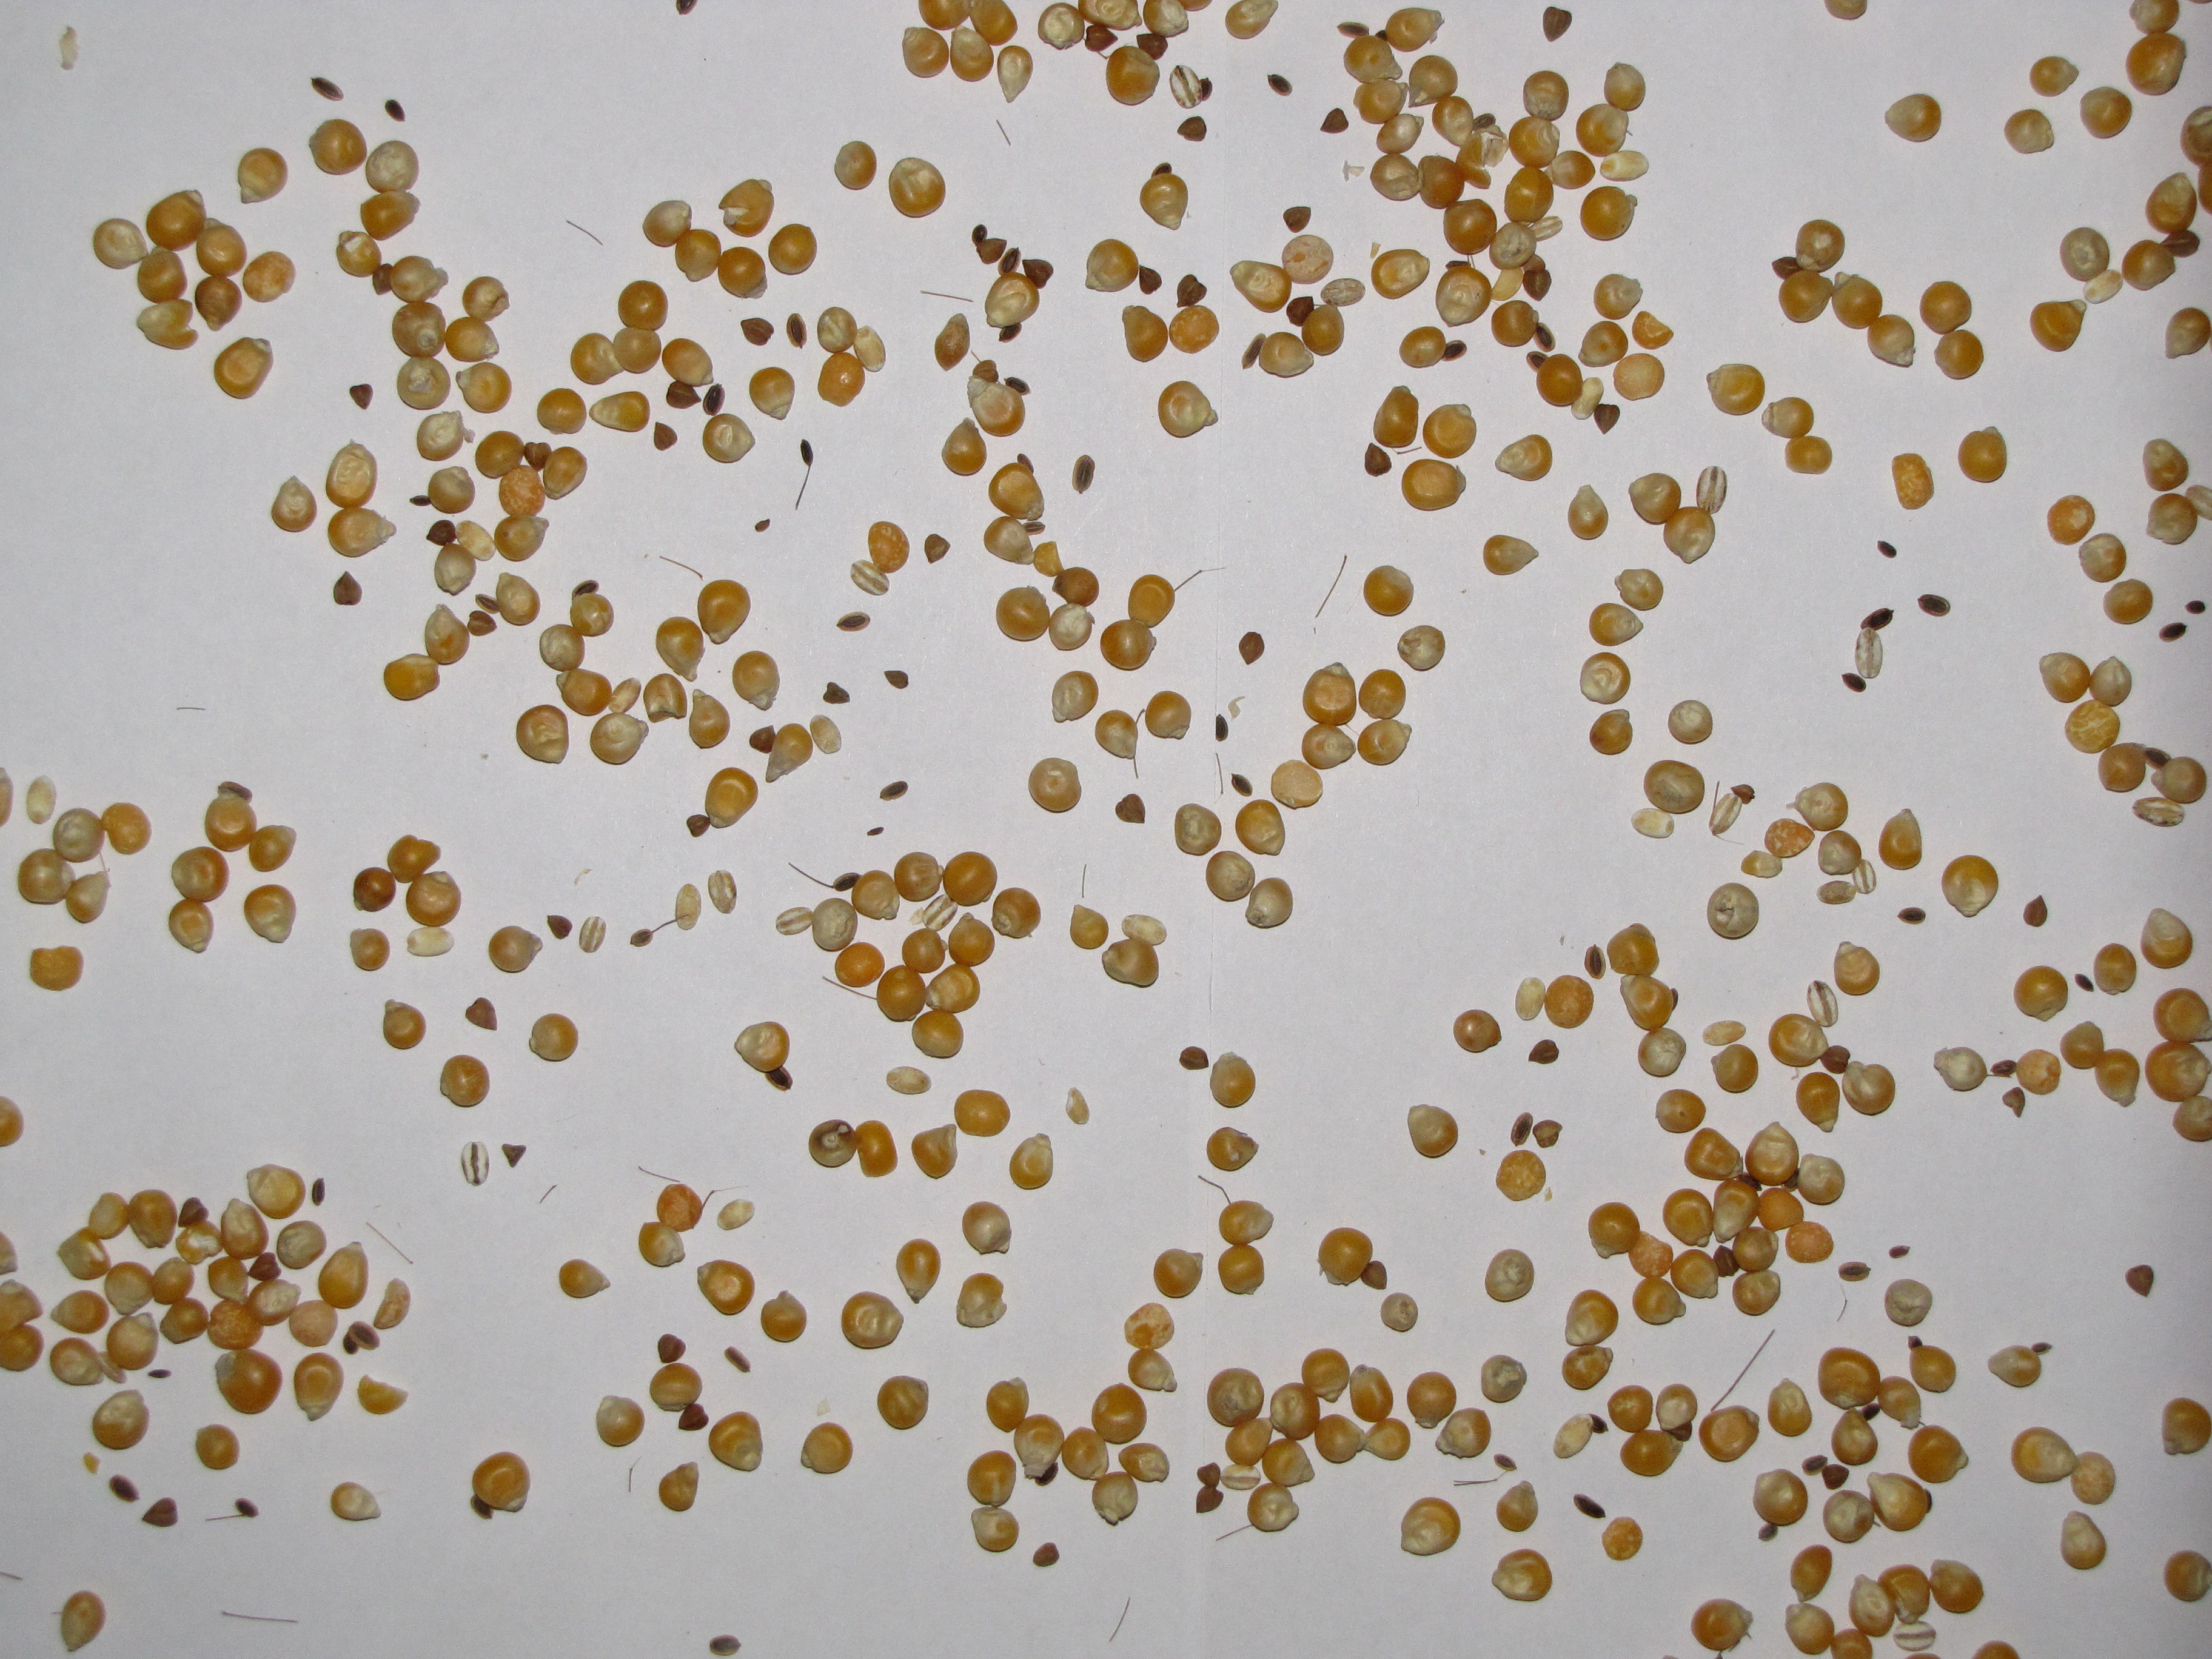mais: (631, 884, 702, 948), (1491, 300, 1555, 352), (1139, 162, 1188, 230), (409, 465, 475, 514), (1376, 7, 1446, 52), (455, 361, 512, 413), (732, 650, 780, 711), (1399, 326, 1467, 369), (1372, 385, 1420, 448), (895, 1239, 941, 1303), (1435, 1408, 1491, 1460), (1407, 1103, 1458, 1159), (956, 1272, 1007, 1328), (1235, 800, 1285, 856), (237, 148, 287, 204), (1907, 1337, 1956, 1394), (1885, 94, 1942, 143), (1407, 1371, 1456, 1429), (1494, 434, 1554, 481), (1796, 1072, 1841, 1133), (1879, 809, 1923, 871), (801, 1422, 853, 1474), (1484, 1248, 1534, 1302), (439, 1054, 489, 1108), (961, 1201, 1012, 1255), (1958, 427, 2006, 483), (941, 418, 988, 476), (1768, 1378, 1813, 1438), (275, 1220, 327, 1270), (1496, 1150, 1547, 1202), (1205, 850, 1256, 903), (1364, 565, 1414, 617), (991, 887, 1042, 939), (1580, 652, 1630, 704), (1832, 941, 1881, 995), (596, 1394, 644, 1448), (488, 925, 543, 972), (911, 1124, 958, 1180), (589, 390, 651, 432), (954, 1089, 1010, 1136), (272, 476, 317, 533), (1008, 1133, 1054, 1190), (1211, 1051, 1256, 1108), (1153, 1248, 1204, 1298), (688, 688, 730, 749), (768, 223, 817, 275), (30, 945, 84, 992), (1892, 453, 1935, 511), (1710, 1044, 1759, 1094), (1885, 1277, 1933, 1328), (2047, 495, 2095, 545), (529, 1012, 578, 1063), (1052, 671, 1099, 723), (1174, 803, 1221, 856), (1205, 1126, 1259, 1171), (761, 1290, 806, 1344), (1588, 603, 1644, 647), (2078, 533, 2127, 582), (1578, 321, 1629, 368), (834, 941, 885, 988), (2003, 108, 2055, 153), (1655, 1089, 1707, 1134), (749, 368, 794, 420), (1568, 484, 1609, 540), (1482, 535, 1540, 575), (1397, 626, 1446, 673), (1594, 274, 1642, 321), (1480, 1354, 1527, 1403), (643, 673, 688, 723), (2102, 579, 2153, 624), (536, 389, 587, 434), (383, 999, 427, 1051), (2094, 943, 2137, 995), (1496, 1480, 1538, 1532), (1588, 709, 1634, 756), (1615, 568, 1663, 612), (1453, 1009, 1501, 1053), (2029, 56, 2080, 98), (934, 314, 970, 371), (996, 45, 1033, 103), (559, 1258, 611, 1298), (834, 141, 876, 190), (1315, 556, 1348, 617), (373, 1277, 411, 1330), (1667, 701, 1712, 744), (658, 1462, 698, 1511), (1601, 1516, 1642, 1561), (1069, 904, 1109, 950), (350, 927, 390, 971), (1801, 1455, 1850, 1490), (1632, 310, 1674, 350), (1599, 150, 1649, 181), (1379, 1293, 1418, 1333), (972, 225, 1007, 265), (810, 714, 843, 755), (850, 563, 888, 596), (887, 1066, 932, 1094), (796, 439, 813, 511), (1472, 246, 1501, 288), (1702, 1019, 1747, 1046), (465, 997, 496, 1032), (141, 1497, 178, 1527), (1543, 5, 1573, 42), (333, 572, 362, 606), (578, 917, 606, 953), (1115, 793, 1146, 824), (2125, 1263, 2155, 1297), (1071, 455, 1096, 495), (1364, 443, 1392, 477), (740, 317, 775, 345), (566, 220, 603, 246), (660, 556, 702, 579), (657, 1333, 686, 1364), (1066, 1087, 1090, 1124), (1533, 1119, 1562, 1148), (1238, 633, 1264, 666), (925, 533, 951, 565), (2022, 896, 2048, 927), (1527, 1039, 1559, 1065), (1573, 1493, 1606, 1518), (1510, 1112, 1533, 1147), (1583, 945, 1606, 979), (1284, 206, 1312, 234), (1320, 108, 1350, 134), (1177, 115, 1207, 141), (312, 77, 343, 101), (1860, 608, 1893, 631), (1918, 594, 1951, 617), (639, 1166, 681, 1183), (836, 612, 871, 633), (2001, 1087, 2026, 1117), (653, 422, 678, 451), (1179, 1046, 1209, 1070), (1838, 1262, 1871, 1283), (1033, 1542, 1061, 1567), (1139, 265, 1162, 295), (787, 314, 806, 349), (547, 915, 573, 939), (822, 681, 850, 704), (880, 781, 909, 802), (502, 1143, 526, 1168), (350, 383, 373, 410), (1268, 73, 1292, 96), (920, 291, 972, 301), (1897, 908, 1926, 925), (1731, 784, 1756, 805), (885, 669, 909, 690), (1841, 673, 1867, 692), (385, 99, 406, 122), (1231, 774, 1252, 796), (1493, 1453, 1517, 1473), (470, 1141, 481, 1185), (1228, 695, 1245, 720), (312, 1178, 326, 1206), (1216, 714, 1228, 742), (2074, 974, 2094, 992), (1878, 540, 1897, 558), (1216, 1528, 1242, 1540), (1888, 1244, 1911, 1258), (1757, 1185, 1782, 1197), (247, 1276, 261, 1297), (2184, 599, 2205, 613), (540, 1185, 556, 1202), (1216, 753, 1223, 789), (242, 1256, 258, 1272), (1270, 1429, 1285, 1445), (1083, 19, 1094, 40), (1397, 446, 1421, 455), (1369, 242, 1381, 260), (148, 1370, 172, 1378), (754, 519, 770, 532), (1082, 864, 1087, 897), (1414, 91, 1428, 103), (1750, 1216, 1764, 1229), (867, 828, 885, 835), (629, 1467, 632, 1492), (1871, 1396, 1879, 1405), (521, 457, 529, 465), (1855, 1405, 1867, 1410), (1559, 936, 1566, 945), (178, 708, 204, 709)
